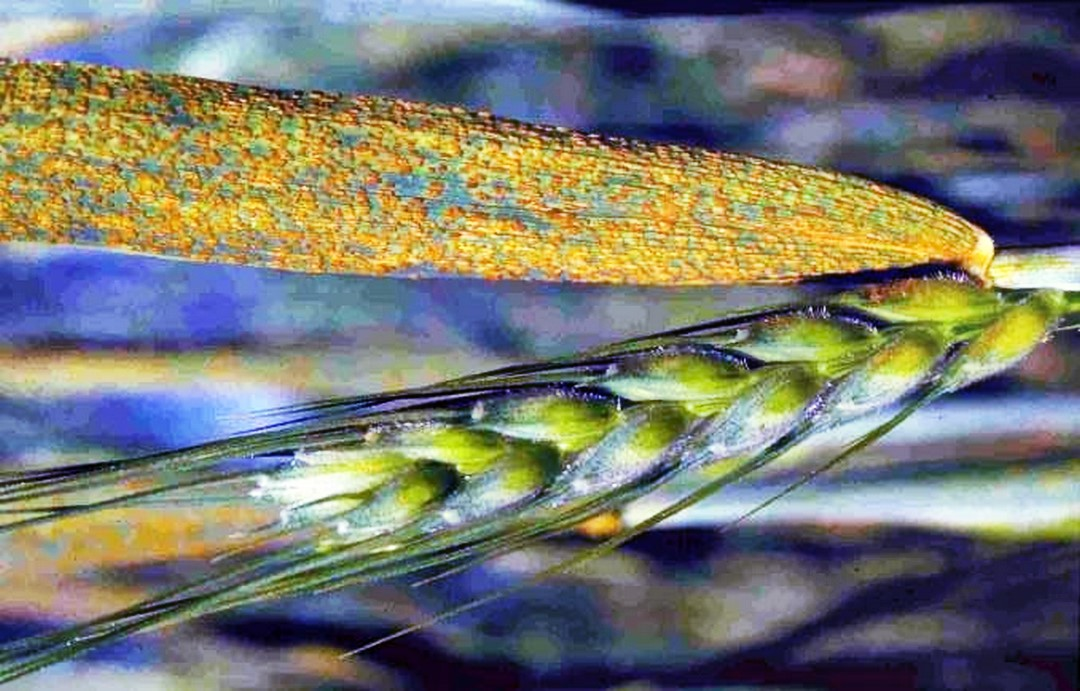Leaf Rust: (1, 47, 919, 291)
